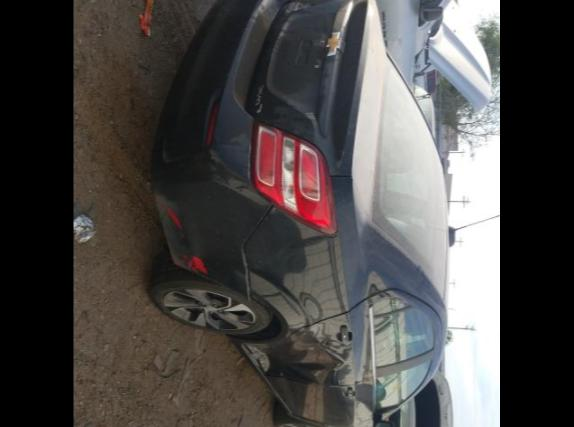Broken part: (238, 204, 276, 298)
Dent: (240, 328, 354, 388)
Missing part: (286, 28, 330, 76)
Paint chip: (172, 256, 186, 268)
Scratch: (246, 344, 270, 372)
